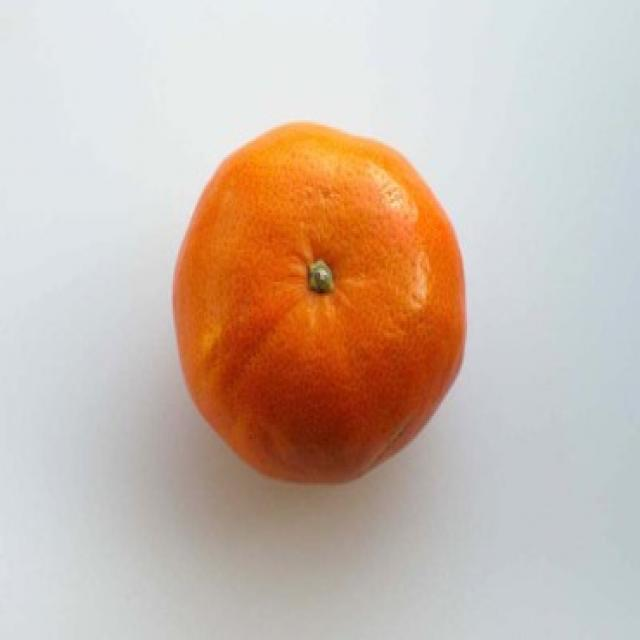Orange: (170, 116, 467, 492)
